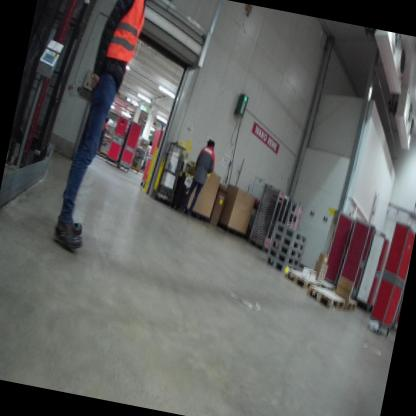pallet: (303, 282, 348, 312), (281, 265, 325, 294), (273, 220, 309, 245), (264, 251, 298, 277), (264, 246, 302, 269), (269, 230, 306, 252), (268, 238, 303, 261), (333, 288, 357, 312)
